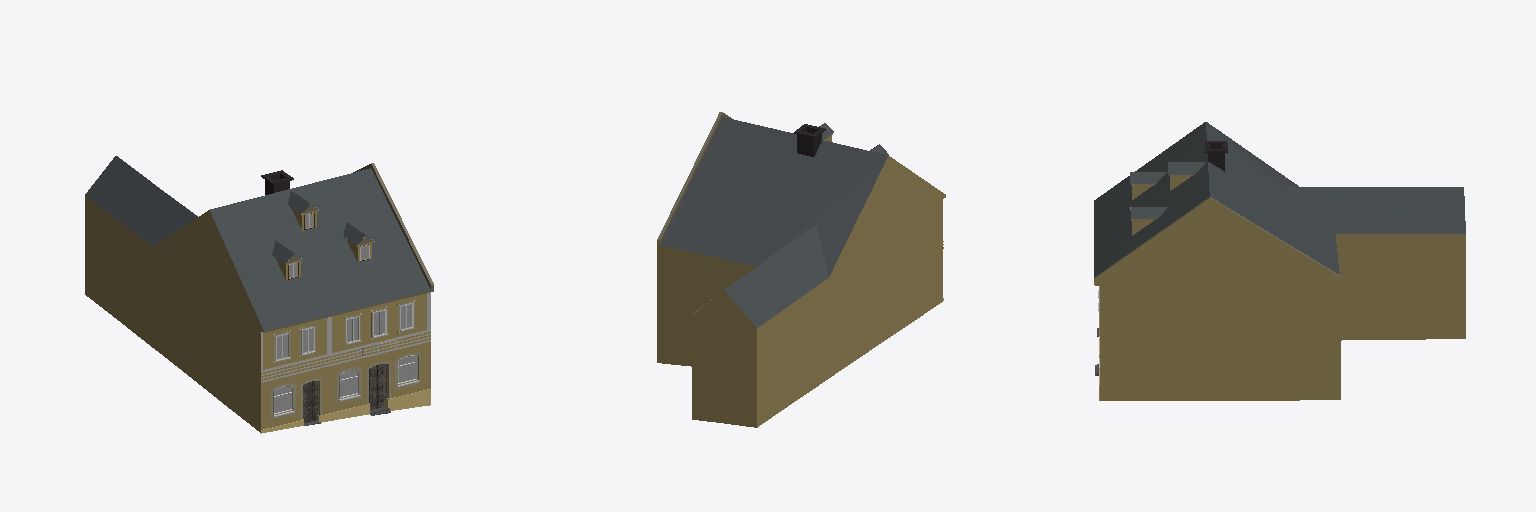
3 views of the same model, side by side, from view 1: azimuth 30°, elevation 25°; view 2: azimuth 150°, elevation 25°; view 3: azimuth 270°, elevation 25° (orthographic).
Parts seen in each view (by area): view 1: Model_Model.001; view 2: Model_Model.001; view 3: Model_Model.001.
Part boxes in pixels (left/top/right/bottom): Model_Model.001: left=85, top=156, right=433, bottom=433; Model_Model.001: left=657, top=112, right=945, bottom=427; Model_Model.001: left=1094, top=122, right=1465, bottom=400.
Bounding box in the file's own units: 1.14 × 1.34 × 2.15.
13 materials, 1 textured.